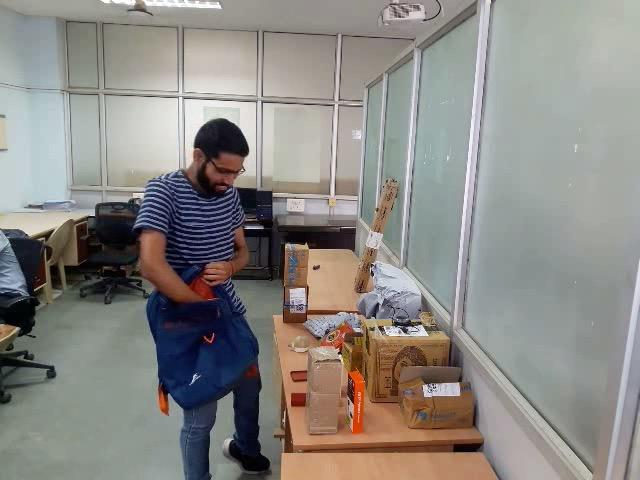shoplifting: (93, 224, 294, 426)
